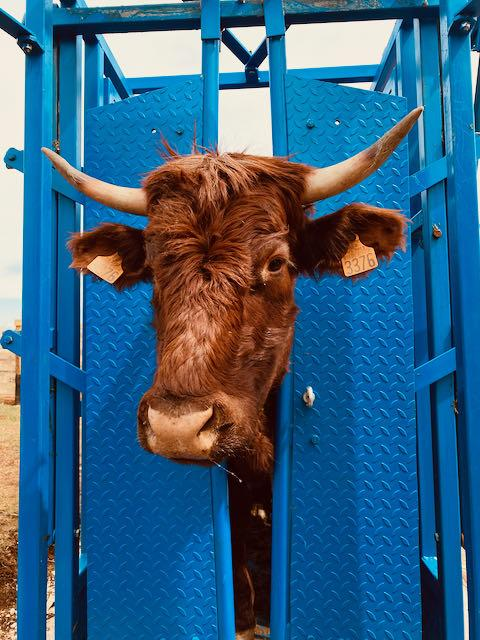muzzles: (131, 393, 250, 471)
